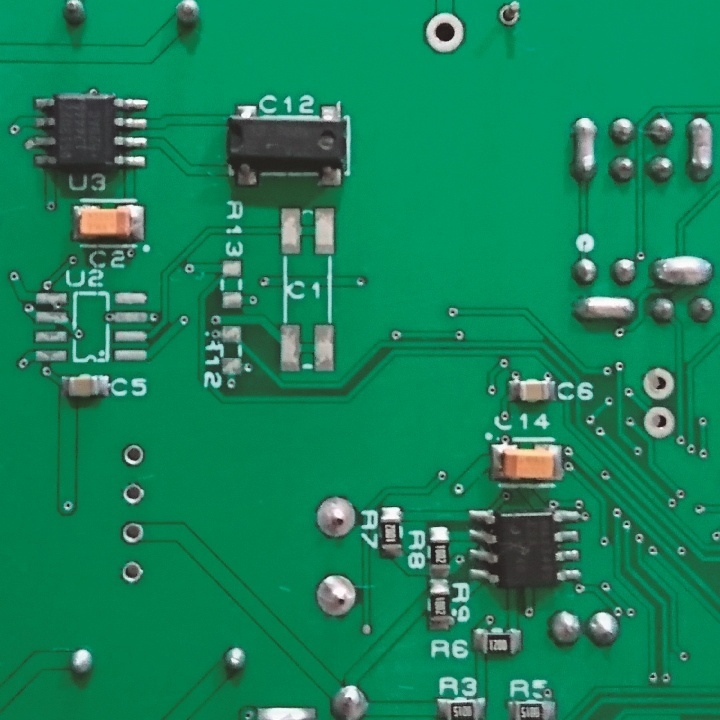F: (315, 493, 359, 540), (423, 11, 469, 55), (315, 574, 359, 620), (641, 401, 677, 440), (640, 365, 676, 403), (494, 1, 532, 29), (122, 441, 145, 469), (121, 481, 145, 504), (120, 562, 146, 583), (121, 520, 144, 543)
P: (683, 112, 716, 186), (650, 254, 719, 288), (569, 293, 639, 326), (570, 114, 596, 181)
